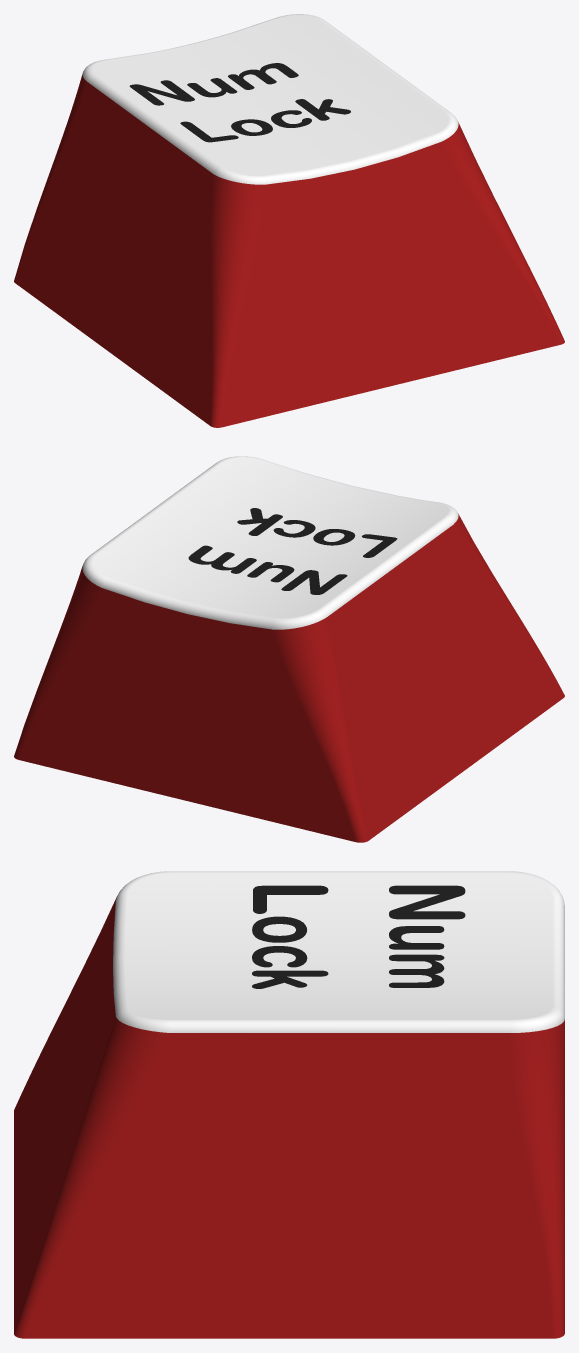
The model's file is Num Lock.fbx.
3 views of the same model, one above another, from view 1: azimuth 30°, elevation 25°; view 2: azimuth 150°, elevation 25°; view 3: azimuth 270°, elevation 25° (orthographic). The views are drawn at different scales.
Parts seen in each view (by area): view 1: Body1; view 2: Body1; view 3: Body1.
Boxes of the visible parts, bbox=[...] form: Body1: bbox=[14, 14, 564, 427]; Body1: bbox=[14, 456, 564, 842]; Body1: bbox=[14, 871, 564, 1338].
Bounding box in the file's own units: 18 × 9.95 × 18.
